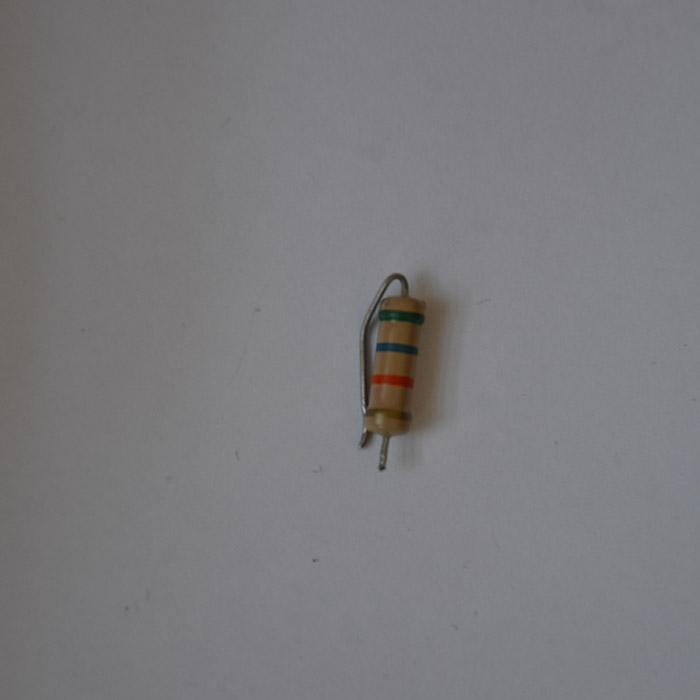resistor: (361, 292, 427, 440)
